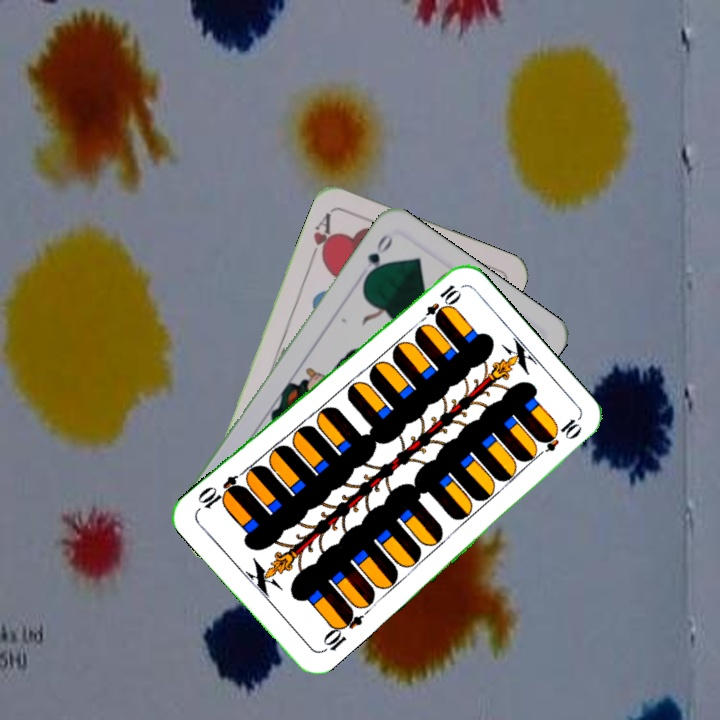E10: (317, 605, 365, 656), (414, 280, 463, 329)
GO: (360, 230, 396, 284)
HA: (306, 208, 336, 265)
